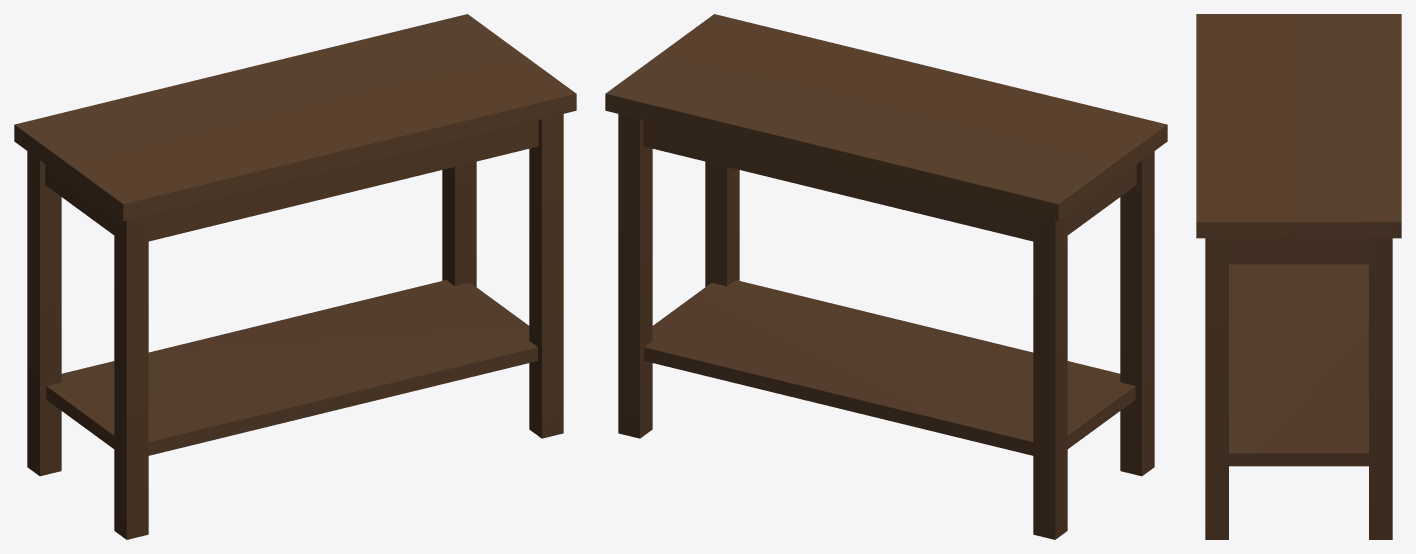
File: table.console.walnut.glb
3 renders of one model, left to right at view 1: azimuth 30°, elevation 25°; view 2: azimuth 150°, elevation 25°; view 3: azimuth 270°, elevation 25°, orthographic. The views are drawn at different scales.
Visible parts, largest first — view 1: table_console_walnut; view 2: table_console_walnut; view 3: table_console_walnut.
Part boxes in pixels (x1,y1,x2,y2): table_console_walnut: (14, 14, 576, 539); table_console_walnut: (605, 14, 1167, 539); table_console_walnut: (1196, 14, 1401, 539).
Size of what is drawn, in the model's own units: 0.834 by 0.6 by 0.347.
